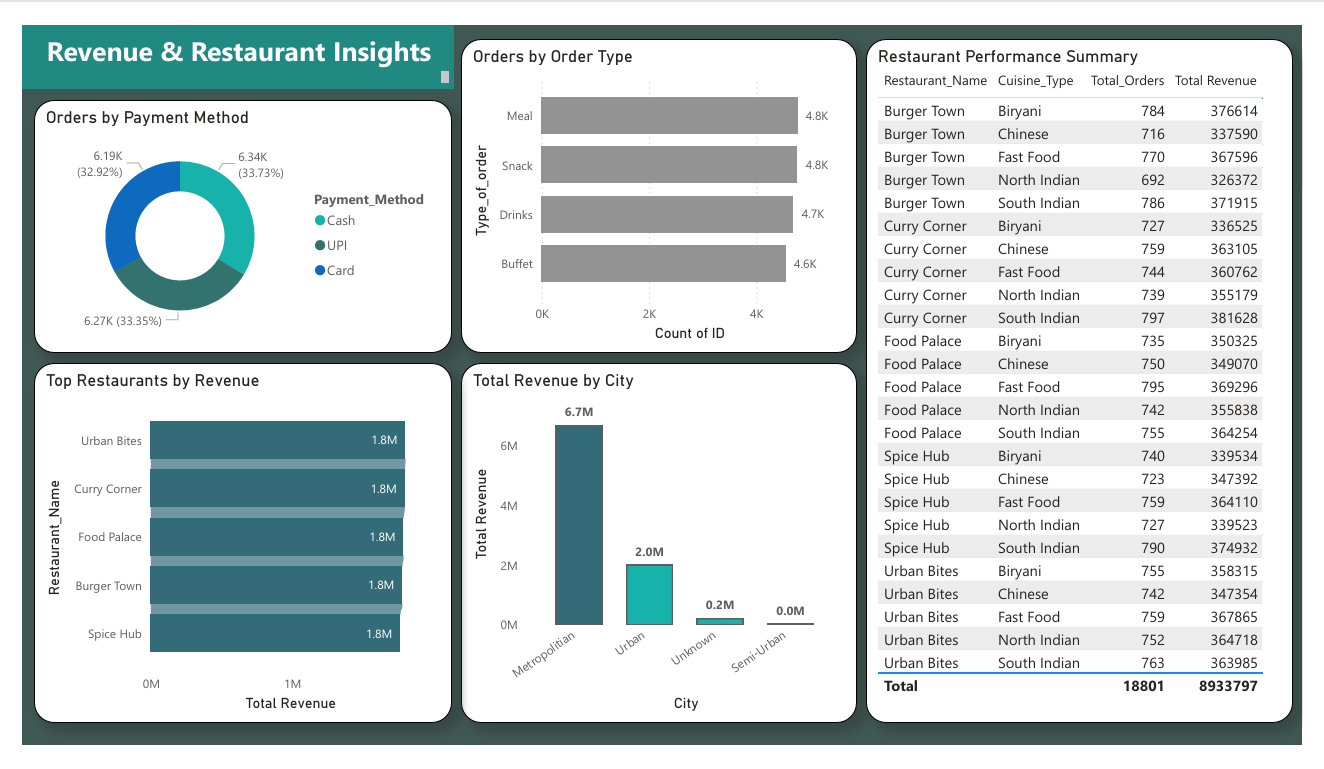

The dashboard page shown, as its layout file describes it:
{"tool":"powerbi","page":{"name":"Revenue & Restaurant Insights","canvas":[1280,720],"ordinal":3},"visuals":[{"type":"donutChart","title":"Orders by Payment Method","fields":{"Category":["orders.Payment_Method"],"Y":["CountNonNull(orders.ID)"]},"box":[10.9,73.6,418.6,253.4],"z":0},{"type":"barChart","title":"Orders by Order Type","fields":{"Category":["orders.Type_of_order"],"Y":["CountNonNull(orders.ID)"]},"box":[437.9,13.3,395.7,313.7],"z":1000},{"type":"clusteredColumnChart","title":"Total Revenue by City","fields":{"Category":["orders.City"],"Y":["orders.Total Revenue"]},"box":[437.9,336.6,395.7,360.7],"z":2000},{"type":"barChart","title":"Top Restaurants by Revenue","fields":{"Category":["orders.Restaurant_Name"],"Y":["orders.Total Revenue"]},"box":[10.9,336.6,418.6,360.7],"z":3000},{"type":"tableEx","title":"Restaurant Performance Summary","fields":{"Values":["orders.Restaurant_Name","orders.Cuisine_Type","orders.Total_Orders","orders.Total Revenue"]},"box":[843.3,13.3,427.1,684.1],"z":4000},{"type":"textbox","title":"Revenue & Restaurant Insights","box":[0,0,432.2,64.5],"z":5000}]}

Visuals, with their boxes in screenshot pixels (x1, y1, x2, y2):
"Orders by Payment Method" donutChart: rect(18, 85, 445, 344)
"Orders by Order Type" barChart: rect(454, 24, 857, 344)
"Total Revenue by City" clusteredColumnChart: rect(454, 354, 857, 722)
"Top Restaurants by Revenue" barChart: rect(18, 354, 445, 722)
"Restaurant Performance Summary" tableEx: rect(867, 24, 1303, 722)
"Revenue & Restaurant Insights" textbox: rect(7, 10, 448, 76)
